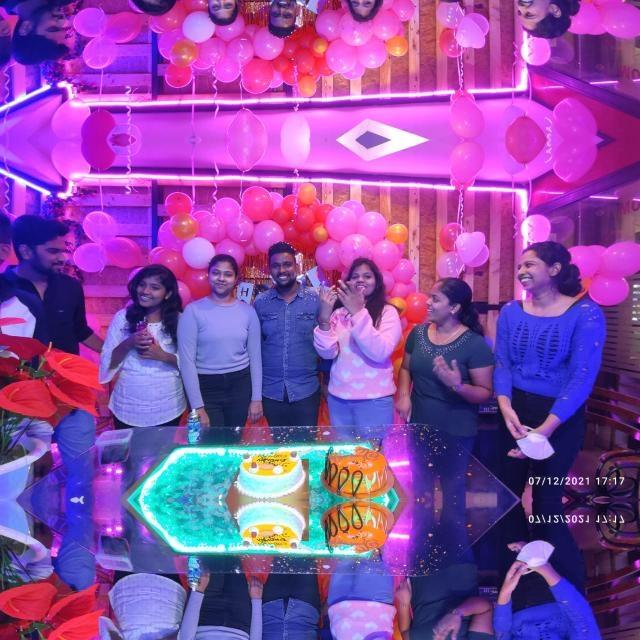person: (502, 236, 604, 482), (320, 253, 408, 442), (248, 242, 334, 422), (183, 252, 261, 430), (408, 278, 478, 456), (502, 518, 603, 640), (116, 260, 190, 426), (5, 214, 89, 358), (320, 557, 407, 640), (407, 544, 478, 640), (5, 0, 88, 66), (183, 570, 261, 640), (248, 577, 333, 640), (116, 574, 189, 640), (502, 0, 603, 44), (248, 0, 333, 38), (320, 0, 407, 26), (183, 0, 261, 27), (116, 0, 189, 19), (407, 0, 478, 2)
